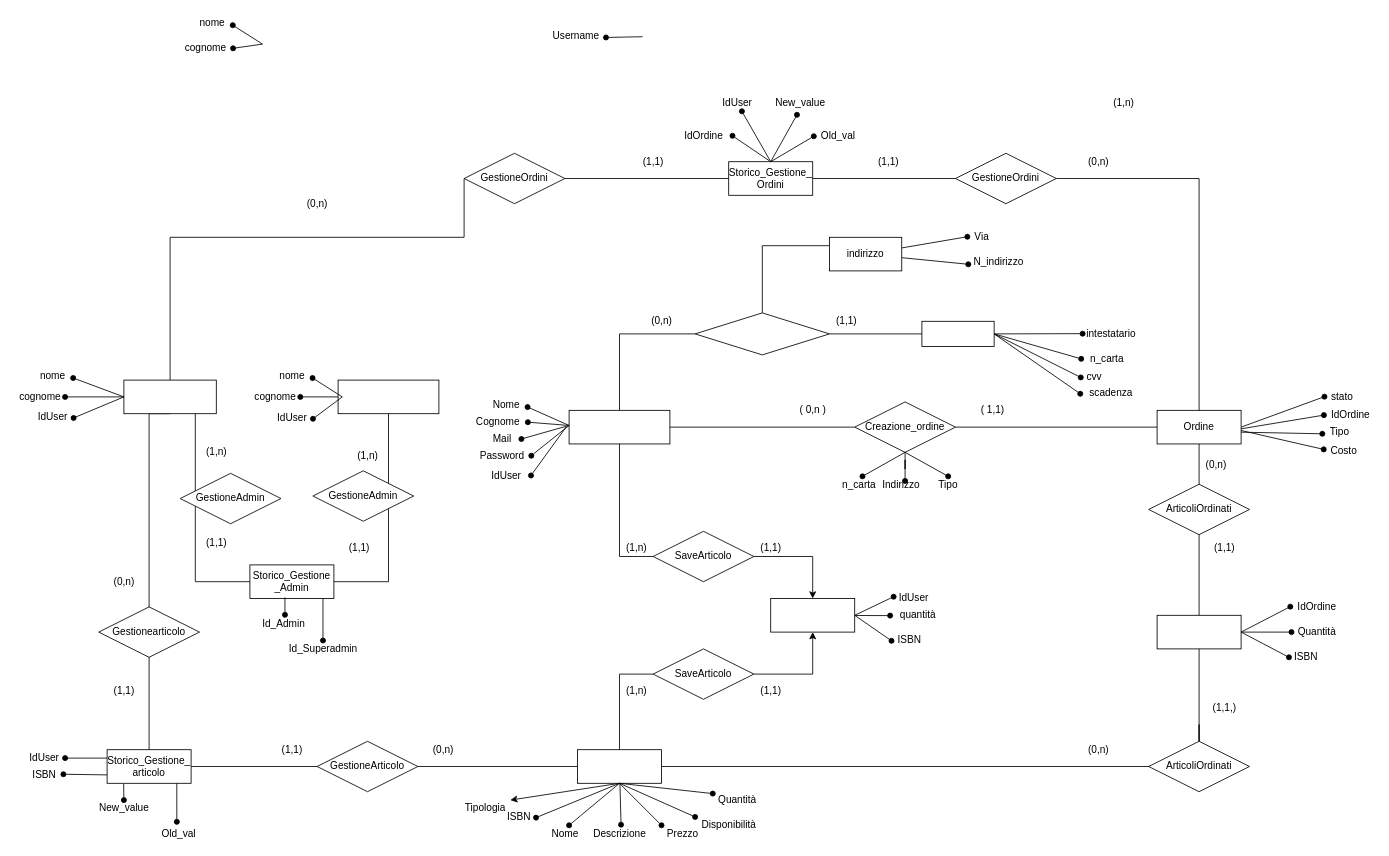
Image size: 1389x856. Some labels were removed from this diagram. The shapes that lost their labels are listed below. From the top down, each one's centre as x and y in pixels, then its label:
pixel 762 333: DatiCliente
pixel 957 333: Carta di Credito
pixel 169 396: Admin
pixel 388 396: superadmin
pixel 619 427: Cliente
pixel 812 615: Carrello
pixel 1198 631: Preparazione ordine
pixel 619 766: Articolo
